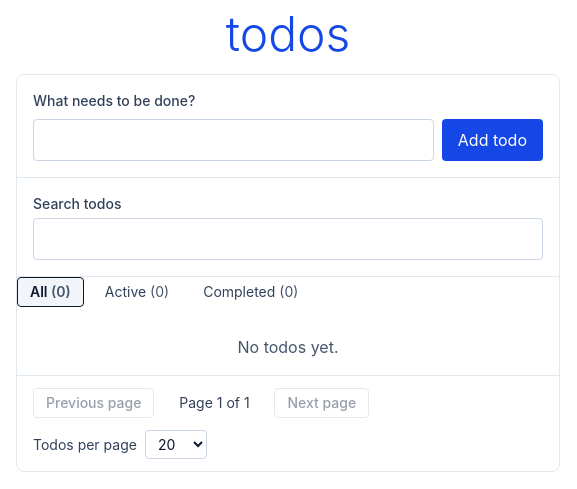
Test: App create form › adds a todo and shows it in the refreshed list
The image size is (577, 489).
Check: the text "No todos yet." is shown, box [238,337,338,357]
Type "Buy milk" into the field labelled "What needs to be done?" at point(233, 140), box [33,119,434,161]
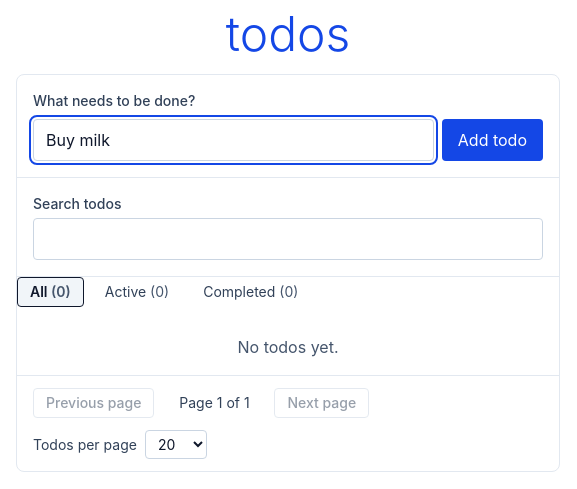
Click the button "Add todo" at point(492, 140), box [442,119,543,161]
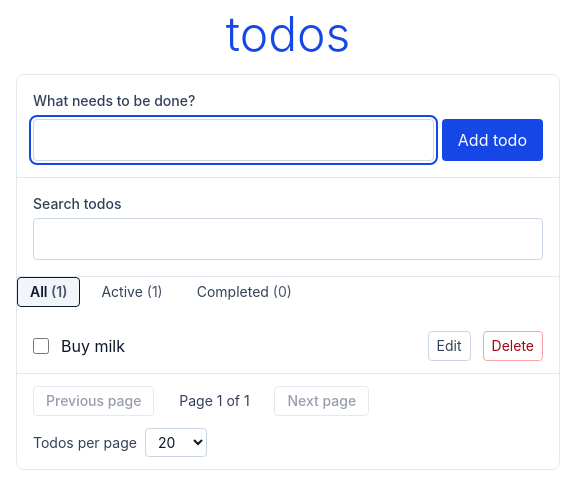
Check: the text "Buy milk" is shown, box [61,336,125,356]
Check: the field labelled "What needs to be done?" is empty, box [33,119,434,161]
